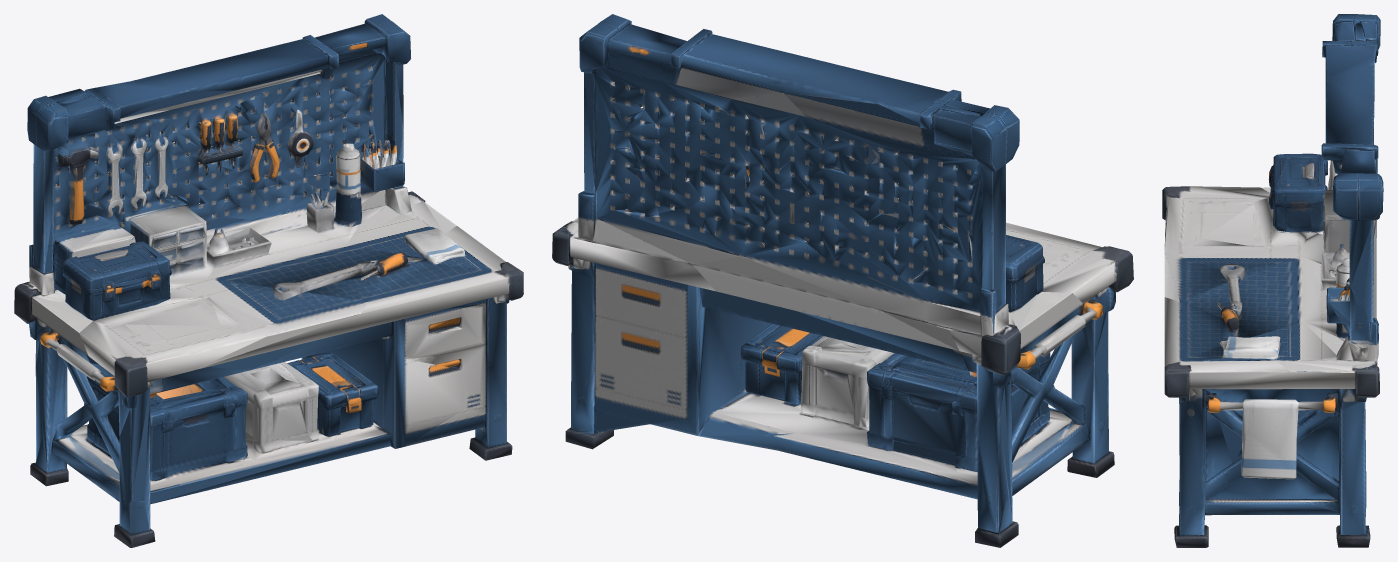
Rendered from CAMP_PROP_001_workbench.glb.
The picture shows the model from 3 angles, left to right: view 1: azimuth 30°, elevation 25°; view 2: azimuth 150°, elevation 25°; view 3: azimuth 270°, elevation 25°; orthographic projection. The views are drawn at different scales.
Parts seen in each view (by area): view 1: Mesh_0.001; view 2: Mesh_0.001; view 3: Mesh_0.001.
Boxes of the visible parts, x1=… form: Mesh_0.001: x1=14, y1=14, x2=523, y2=547; Mesh_0.001: x1=552, y1=14, x2=1133, y2=547; Mesh_0.001: x1=1162, y1=14, x2=1383, y2=547.
Size of the model in its own units: 2.12 by 1.85 by 1.03.
1 material, 1 textured.
